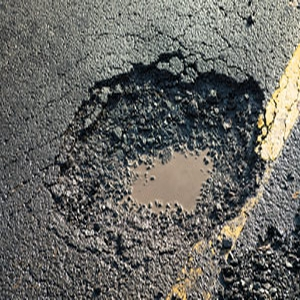pothole: (63, 61, 265, 256)
